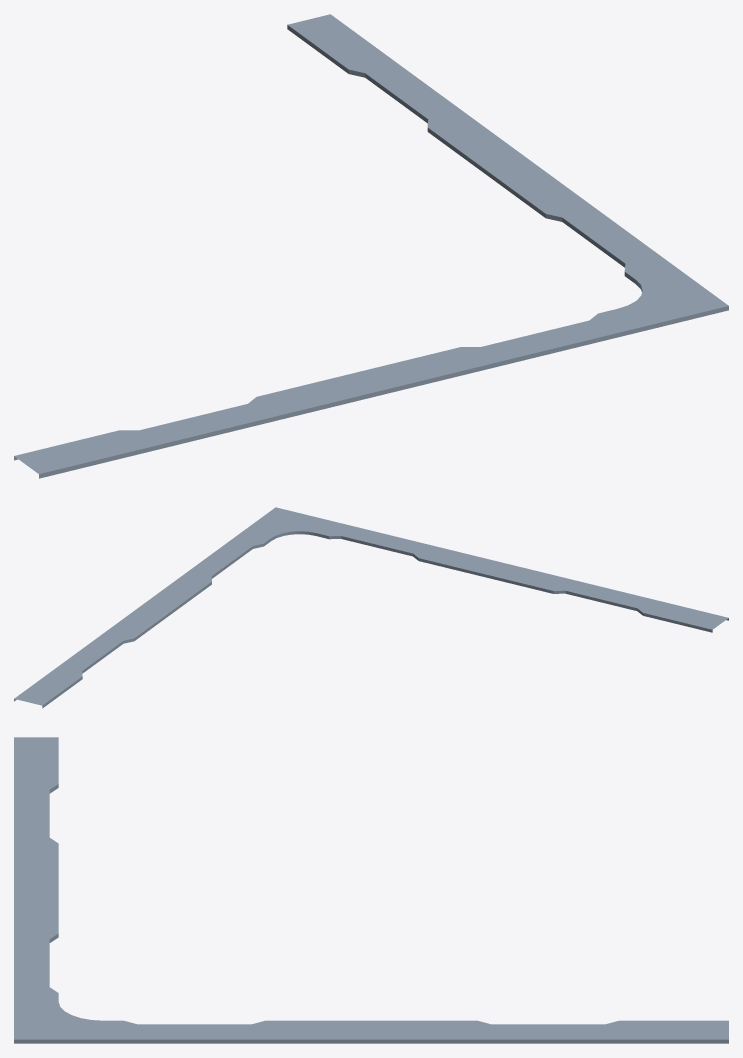
File: RoadSideL.fbx
3 renders of one model, top to bottom at view 1: azimuth 30°, elevation 25°; view 2: azimuth 150°, elevation 25°; view 3: azimuth 270°, elevation 25°, orthographic. The views are drawn at different scales.
Parts seen in each view (by area): view 1: RoadSideL_LOD0; view 2: RoadSideL_LOD0; view 3: RoadSideL_LOD0.
Boxes of the visible parts, x1=… form: RoadSideL_LOD0: x1=14, y1=14, x2=728, y2=478; RoadSideL_LOD0: x1=14, y1=507, x2=728, y2=708; RoadSideL_LOD0: x1=14, y1=737, x2=728, y2=1043.
Size of what is drawn, in the model's own units: 1600 by 10 by 1600.
